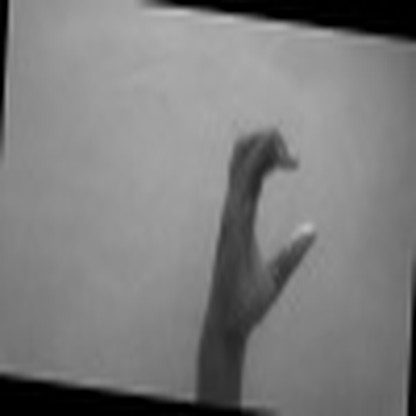c: (206, 123, 318, 323)
